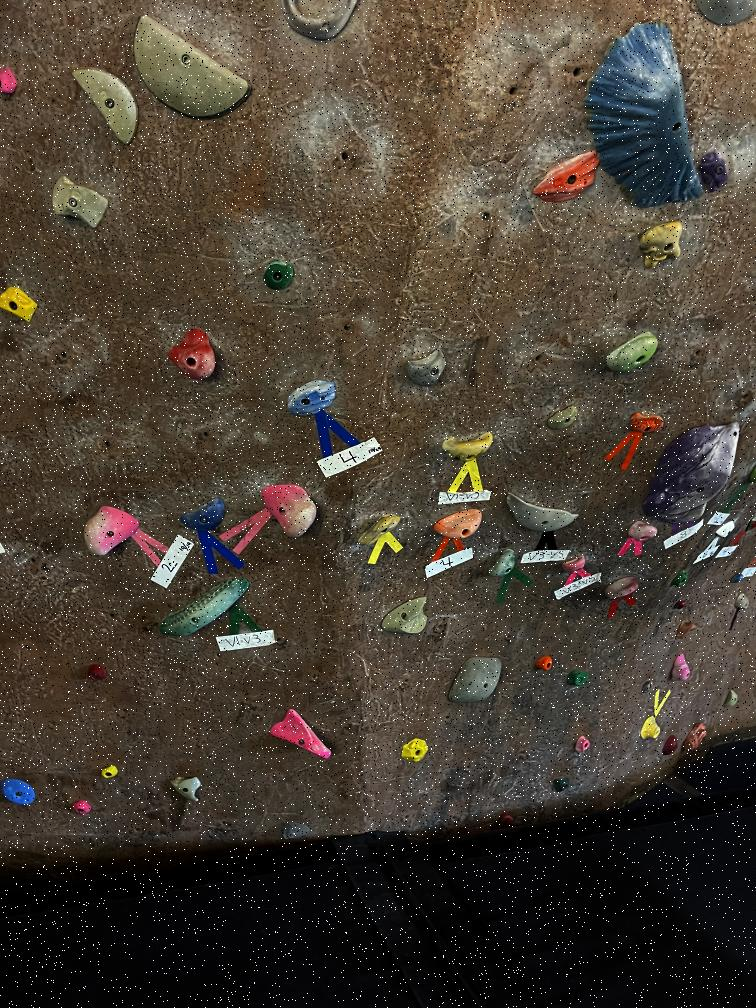Crimp: (536, 148, 596, 206), (281, 374, 348, 420), (178, 500, 233, 530), (0, 777, 36, 807), (550, 406, 582, 431)
Edges: (126, 9, 258, 118), (651, 416, 741, 522), (64, 69, 142, 144), (501, 488, 582, 537)
Foothold: (698, 148, 735, 193), (0, 282, 35, 327), (169, 774, 204, 804), (399, 738, 432, 762), (682, 723, 709, 752), (281, 819, 308, 842), (569, 665, 592, 690), (636, 718, 662, 740), (98, 762, 124, 782), (87, 663, 109, 685), (71, 797, 94, 818), (550, 778, 575, 797), (662, 732, 678, 756), (497, 809, 518, 827), (575, 736, 593, 756), (673, 572, 688, 590), (536, 658, 555, 672), (641, 674, 653, 696), (730, 572, 745, 585), (675, 599, 688, 613)
Jug: (268, 705, 335, 767), (601, 322, 667, 379), (257, 483, 321, 539), (80, 503, 142, 559), (165, 332, 228, 383), (640, 220, 684, 266), (440, 432, 496, 462), (361, 511, 401, 546), (625, 410, 667, 438), (489, 546, 518, 579), (604, 576, 642, 600), (628, 520, 656, 544), (562, 557, 593, 574), (678, 620, 698, 642)
Pinch: (154, 573, 258, 640), (48, 173, 112, 231), (430, 509, 484, 541), (724, 687, 740, 713)
Pocket: (274, 0, 373, 51)
Sloper: (582, 20, 702, 208), (452, 651, 504, 705), (398, 348, 453, 390), (383, 593, 429, 638), (258, 256, 298, 296), (669, 652, 693, 683), (732, 592, 749, 610)
